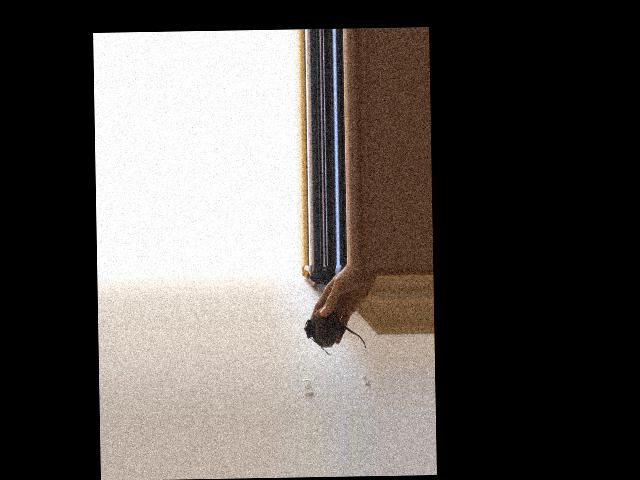beet: (303, 307, 366, 356)
